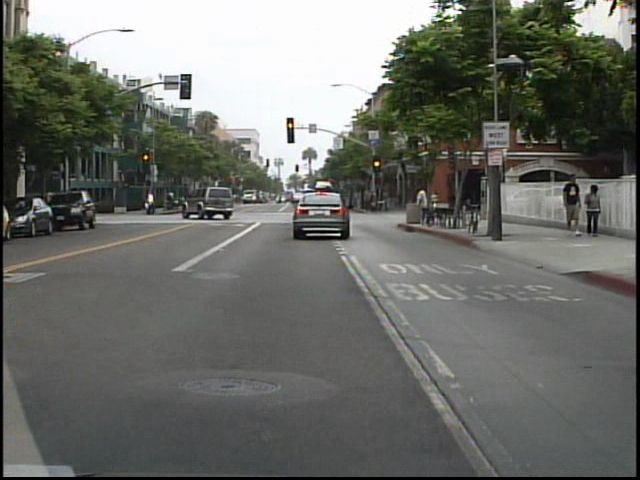person: (560, 167, 586, 235), (581, 181, 606, 241), (415, 181, 435, 226), (146, 186, 163, 220)
